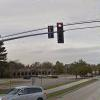Traffic light: (36, 14, 68, 52)
